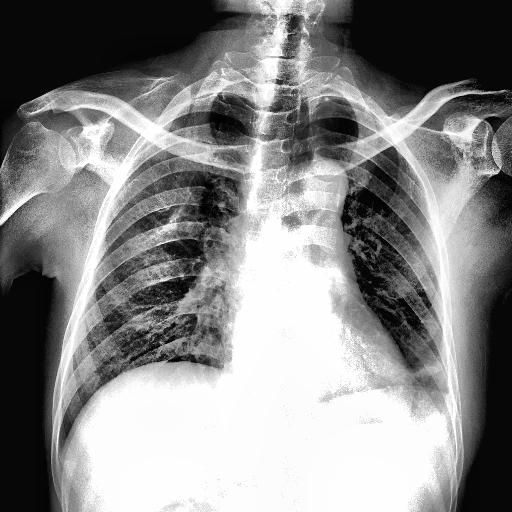0- Aortic enlargement: (285, 157, 350, 223), (290, 157, 348, 226), (291, 152, 347, 215)
10- Pleural effusion: (440, 380, 458, 424)
11- Pleural thickening: (440, 380, 458, 424), (308, 94, 350, 104)
13- Pulmonary fibrosis: (160, 168, 196, 224), (406, 363, 446, 380), (412, 364, 446, 382), (407, 366, 446, 380)
7- Lung Opacity: (121, 128, 209, 260)
9- Other lesion: (406, 363, 446, 380)
